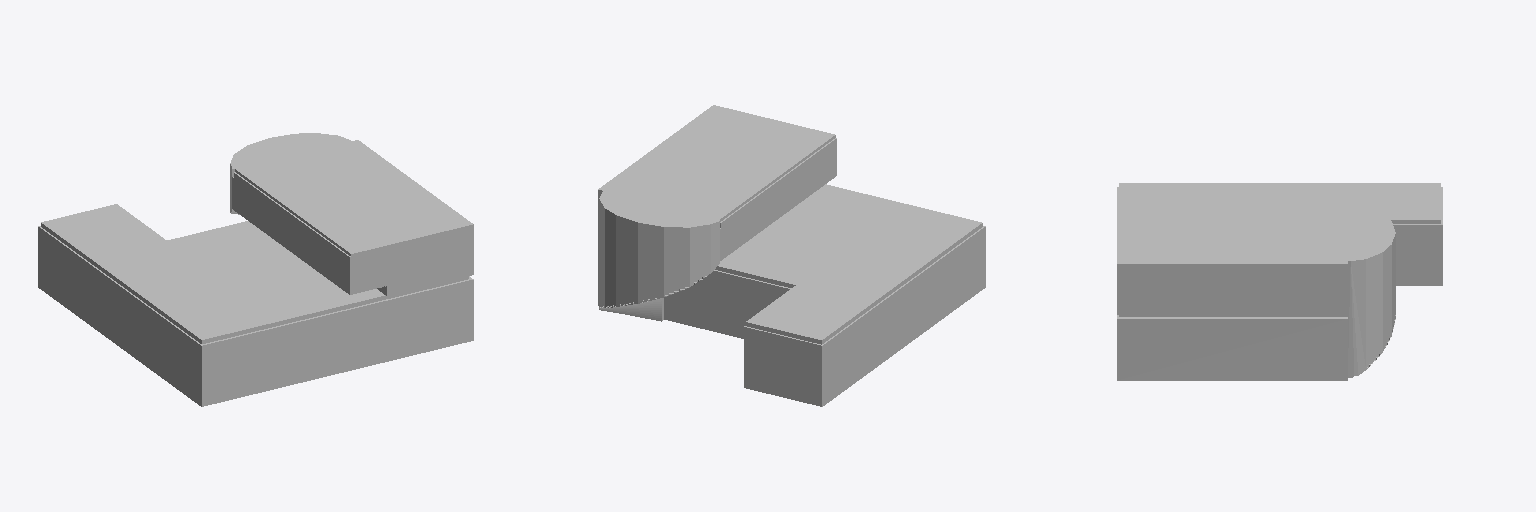
The model's file is ENVI_ballroom.obj.
3 renders of one model, left to right at view 1: azimuth 30°, elevation 25°; view 2: azimuth 150°, elevation 25°; view 3: azimuth 270°, elevation 25°, orthographic.
Parts seen in each view (by area): view 1: Ballroom; view 2: Ballroom; view 3: Ballroom.
Boxes of the visible parts, x1,y1,x2,y2 form: Ballroom: [38, 133, 473, 406]; Ballroom: [598, 105, 985, 406]; Ballroom: [1117, 183, 1442, 380].
Size of the model in its own units: 28.84 by 11.79 by 29.97.